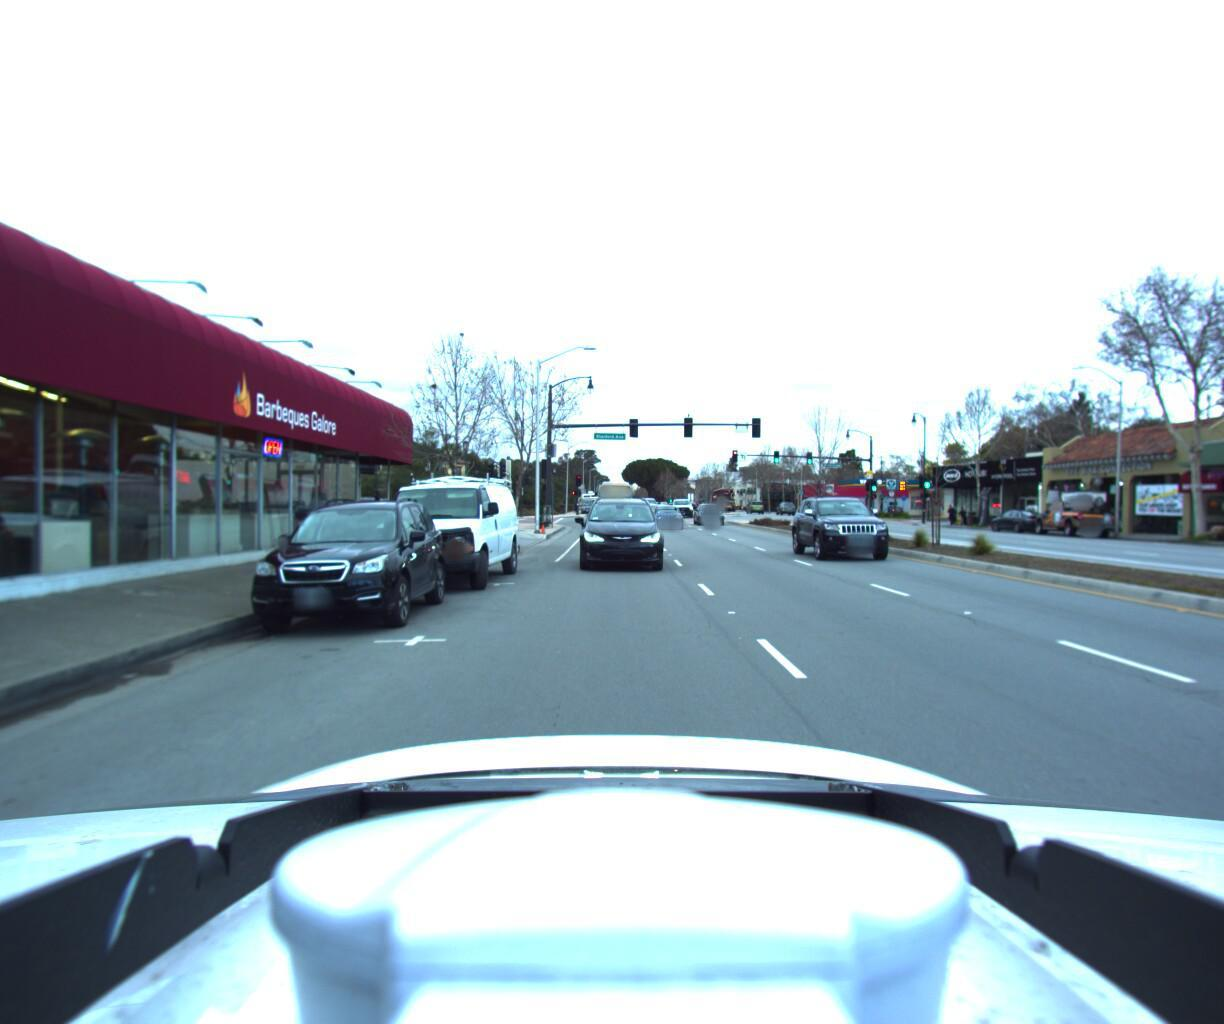bus: (593, 473, 636, 518)
car: (225, 490, 447, 645), (353, 468, 518, 601), (792, 489, 905, 563), (576, 491, 661, 573), (1026, 503, 1121, 539), (980, 507, 1052, 533), (692, 498, 729, 526), (653, 504, 687, 530), (670, 493, 697, 517)
